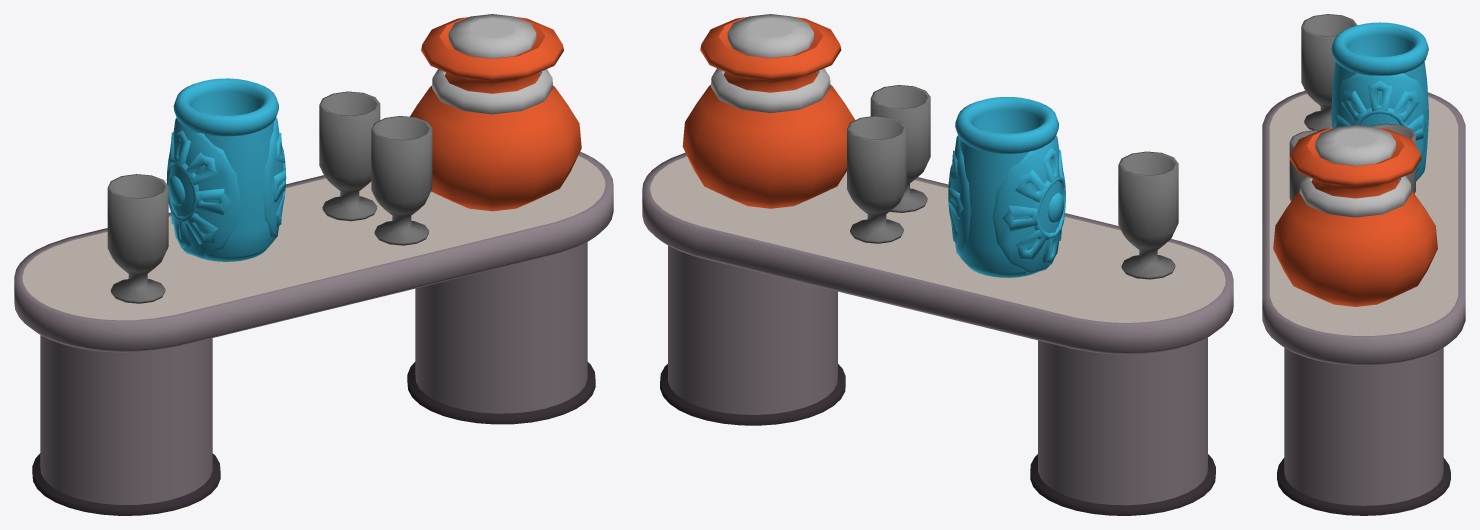
Rendered from GB_175_shop_counter.glb.
3 views of the same model, side by side, from view 1: azimuth 30°, elevation 25°; view 2: azimuth 150°, elevation 25°; view 3: azimuth 270°, elevation 25° (orthographic). The views are drawn at different scales.
Parts seen in each view (by area): view 1: shop_counter, shop_counter_redvase, shop_counter_glasses, shop_counter_vase; view 2: shop_counter, shop_counter_redvase, shop_counter_vase, shop_counter_glasses; view 3: shop_counter, shop_counter_redvase, shop_counter_vase, shop_counter_glasses.
Boxes of the visible parts, x1,y1,x2,y2 form: shop_counter: (14, 152, 613, 515); shop_counter_redvase: (410, 14, 581, 211); shop_counter_glasses: (107, 91, 432, 303); shop_counter_vase: (166, 78, 286, 261); shop_counter: (642, 152, 1233, 515); shop_counter_redvase: (682, 14, 854, 208); shop_counter_vase: (948, 97, 1065, 277); shop_counter_glasses: (847, 85, 1178, 279); shop_counter: (1262, 91, 1465, 515); shop_counter_redvase: (1273, 125, 1437, 306); shop_counter_vase: (1331, 22, 1428, 181); shop_counter_glasses: (1289, 14, 1415, 201).
Bounding box in the file's own units: 2.24 × 1.36 × 0.75.
